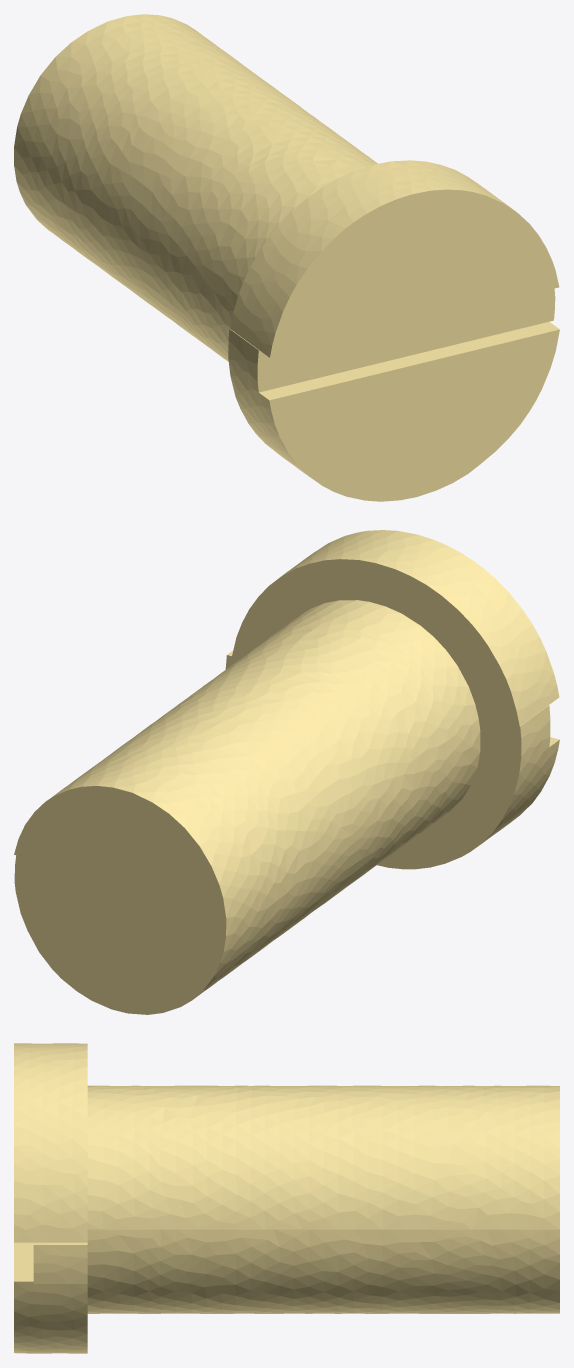
File: input.gltf
3 views of the same model, one above another, from view 1: azimuth 30°, elevation 25°; view 2: azimuth 150°, elevation 25°; view 3: azimuth 270°, elevation 25° (orthographic). The views are drawn at different scales.
Parts seen in each view (by area): view 1: Renderer Node; view 2: Renderer Node; view 3: Renderer Node.
Boxes of the visible parts, x1,y1,x2,y2 form: Renderer Node: (14, 14, 559, 501); Renderer Node: (14, 530, 559, 1014); Renderer Node: (14, 1043, 559, 1353).
Bounding box in the file's own units: 0.5044 × 0.4922 × 0.8672.
